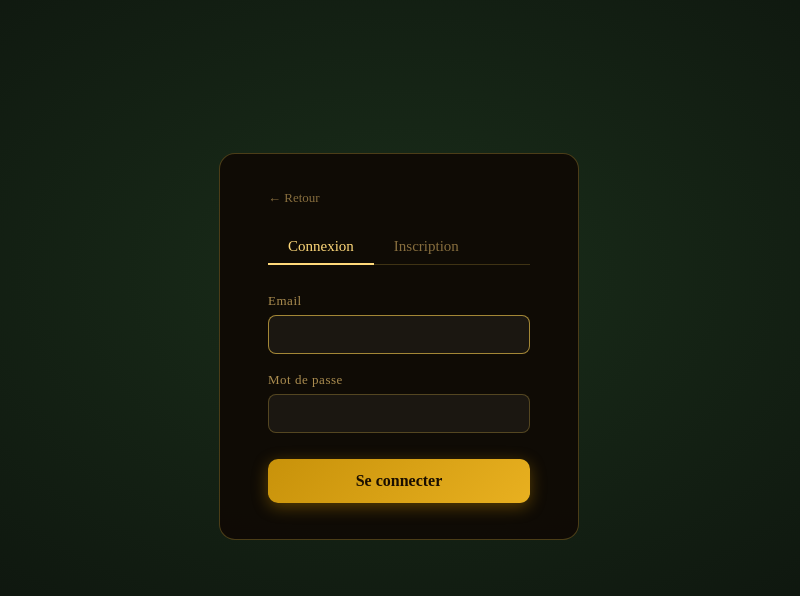
Scenario: LoginPage › bascule vers le formulaire inscription
Click the button "Inscription" at coordinates (426, 247), box x1=374 y1=230 x2=479 y2=264
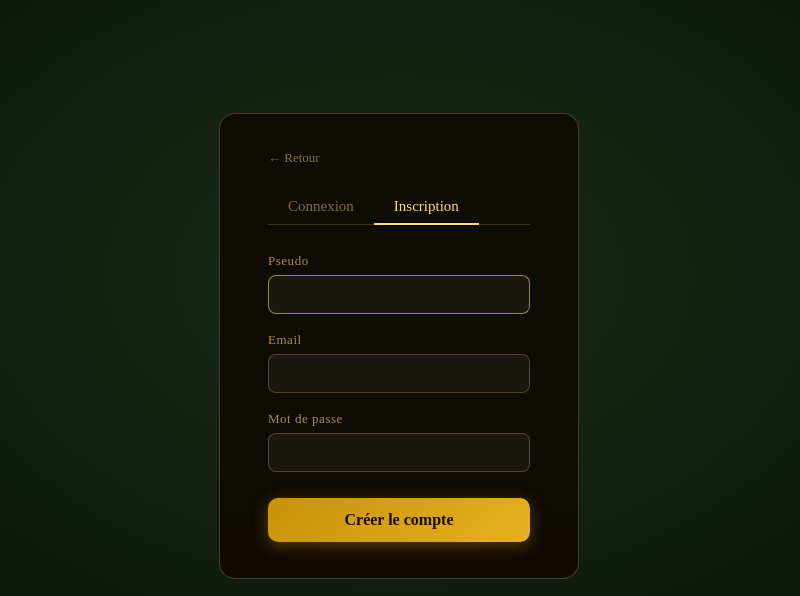
Result: the button "Créer le compte" is shown at x1=268 y1=498 x2=530 y2=542
Result: the text "Pseudo" is shown at x1=268 y1=253 x2=309 y2=268
